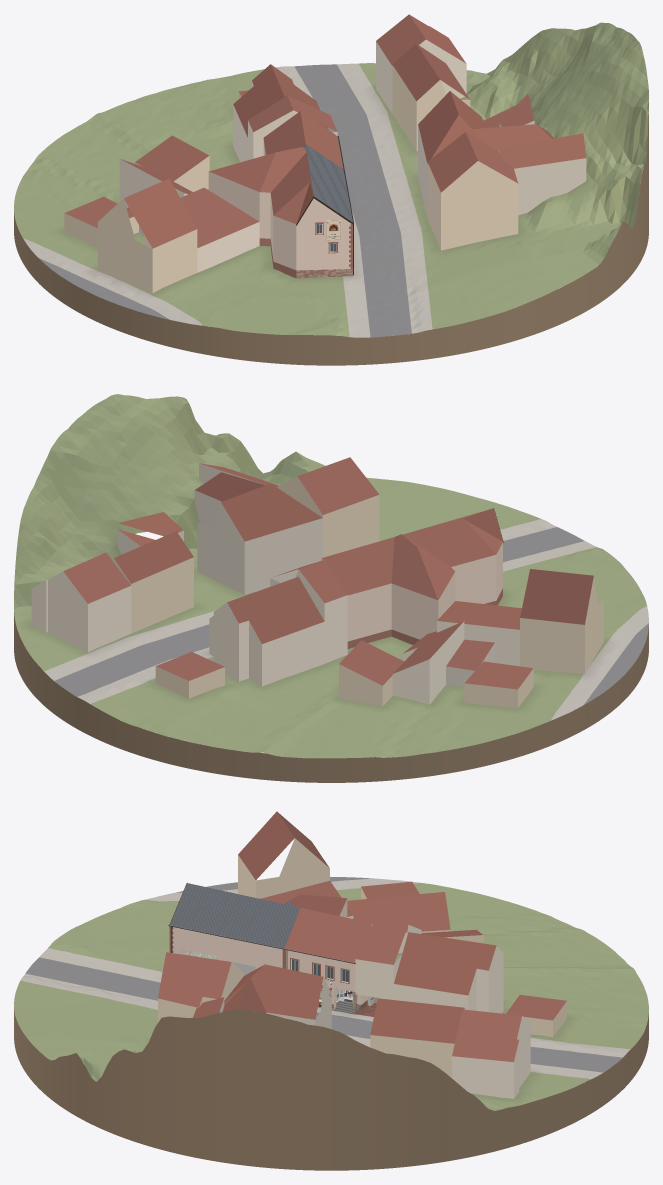
The model's file is twin.glb.
3 renders of one model, top to bottom at view 1: azimuth 30°, elevation 25°; view 2: azimuth 150°, elevation 25°; view 3: azimuth 270°, elevation 25°, orthographic.
Parts seen in each view (by area): view 1: umgebung/gelaende, umgebung/nachbarhaeuser, umgebung/strasse, fassade/aussenwand, fassade/dach, fassade/dach/schiefer; view 2: umgebung/gelaende, umgebung/nachbarhaeuser, umgebung/strasse, fassade/dach, fassade/aussenwand; view 3: umgebung/gelaende, umgebung/nachbarhaeuser, umgebung/strasse, fassade/dach/schiefer, fassade/aussenwand, fassade/dach, fassade/obergeschoss-fenster.
Boxes of the visible parts, x1=… form: umgebung/gelaende: x1=14, y1=22, x2=648, y2=365; umgebung/nachbarhaeuser: x1=64, y1=14, x2=586, y2=292; umgebung/strasse: x1=23, y1=63, x2=432, y2=337; fassade/aussenwand: x1=208, y1=140, x2=352, y2=278; fassade/dach: x1=209, y1=111, x2=343, y2=223; fassade/dach/schiefer: x1=303, y1=144, x2=352, y2=222; umgebung/gelaende: x1=14, y1=394, x2=648, y2=782; umgebung/nachbarhaeuser: x1=31, y1=457, x2=603, y2=708; umgebung/strasse: x1=44, y1=519, x2=648, y2=720; fassade/dach: x1=322, y1=508, x2=502, y2=600; fassade/aussenwand: x1=321, y1=542, x2=502, y2=648; umgebung/gelaende: x1=14, y1=883, x2=648, y2=1170; umgebung/nachbarhaeuser: x1=158, y1=811, x2=566, y2=1107; umgebung/strasse: x1=20, y1=877, x2=630, y2=1078; fassade/dach/schiefer: x1=170, y1=883, x2=300, y2=948; fassade/aussenwand: x1=170, y1=899, x2=372, y2=1010; fassade/dach: x1=284, y1=894, x2=371, y2=962; fassade/obergeschoss-fenster: x1=290, y1=958, x2=349, y2=983.
Size of the model in its own units: 76 by 20.68 by 76.
